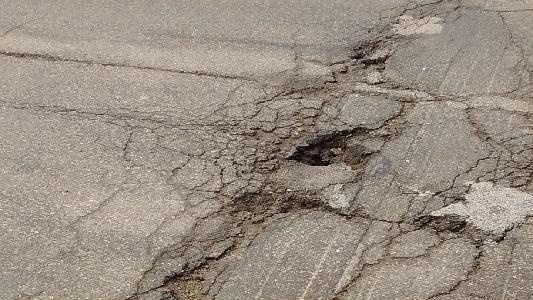pothole: (284, 125, 364, 171), (231, 187, 321, 215), (156, 263, 213, 299), (347, 37, 394, 72), (415, 213, 471, 239)
